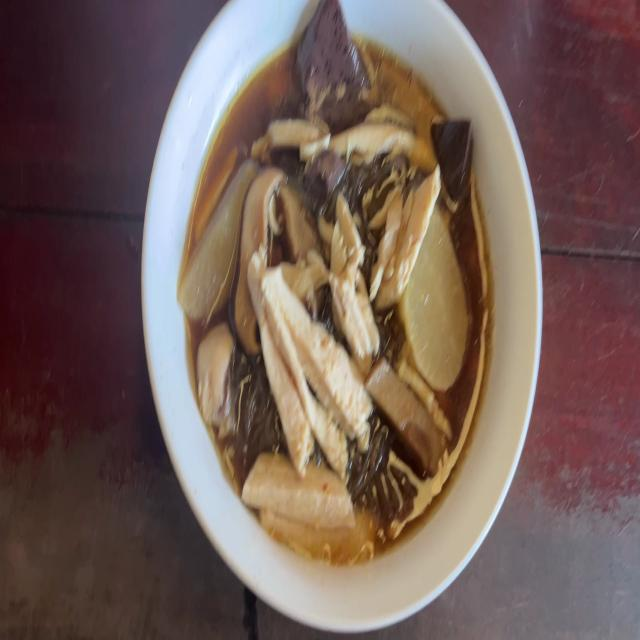boiled_chicken_blood_jelly: (302, 0, 367, 119), (436, 120, 474, 192), (311, 146, 340, 200)
chicken_shredded: (251, 252, 363, 466), (248, 464, 366, 549), (379, 166, 441, 305), (332, 184, 373, 360), (326, 111, 419, 163), (195, 324, 234, 430), (262, 110, 319, 157)
daikon_radish: (180, 144, 252, 322), (414, 224, 472, 383)
noodle: (186, 31, 496, 556)
